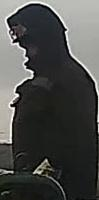helmet: (8, 18, 28, 47)
vest: (10, 60, 98, 199)
